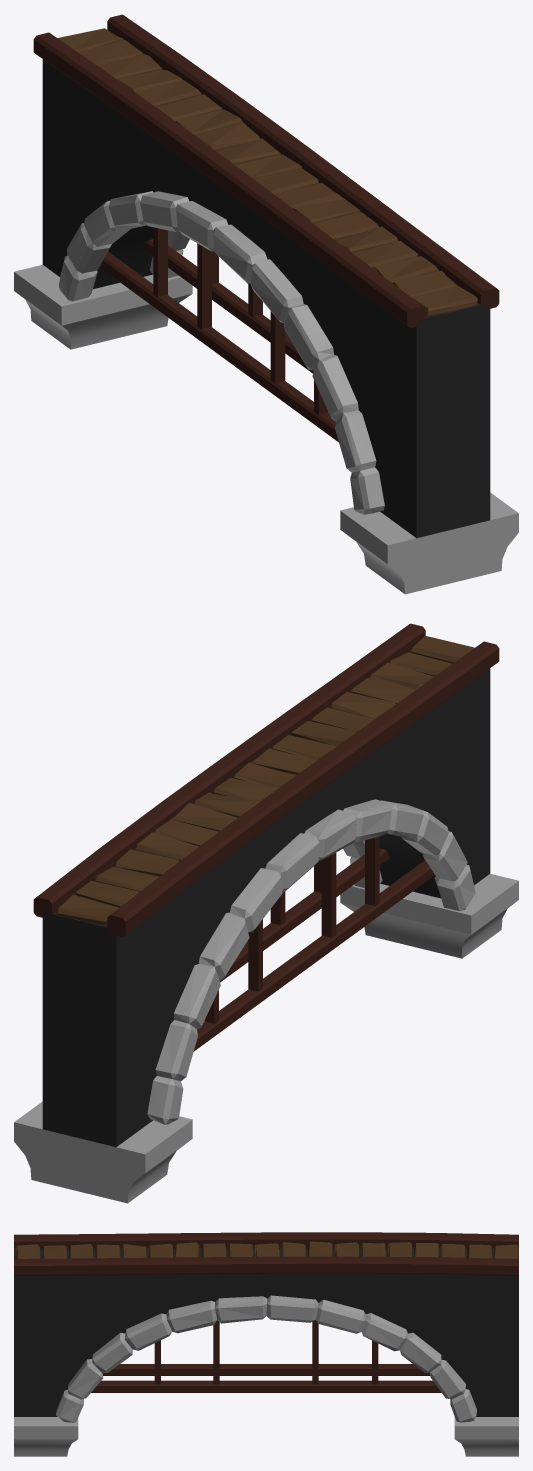
The model's file is civilian_bridge_1_b.FBX.
The picture shows the model from 3 angles, top to bottom: view 1: azimuth 30°, elevation 25°; view 2: azimuth 150°, elevation 25°; view 3: azimuth 270°, elevation 25°; orthographic projection. The views are drawn at different scales.
Parts seen in each view (by area): view 1: civilian_bridge_1_b; view 2: civilian_bridge_1_b; view 3: civilian_bridge_1_b.
Boxes of the visible parts, x1=… form: civilian_bridge_1_b: x1=14, y1=14, x2=518, y2=594; civilian_bridge_1_b: x1=14, y1=623, x2=518, y2=1203; civilian_bridge_1_b: x1=14, y1=1232, x2=518, y2=1456.
Bounding box in the file's own units: 214 × 448 × 1056.
